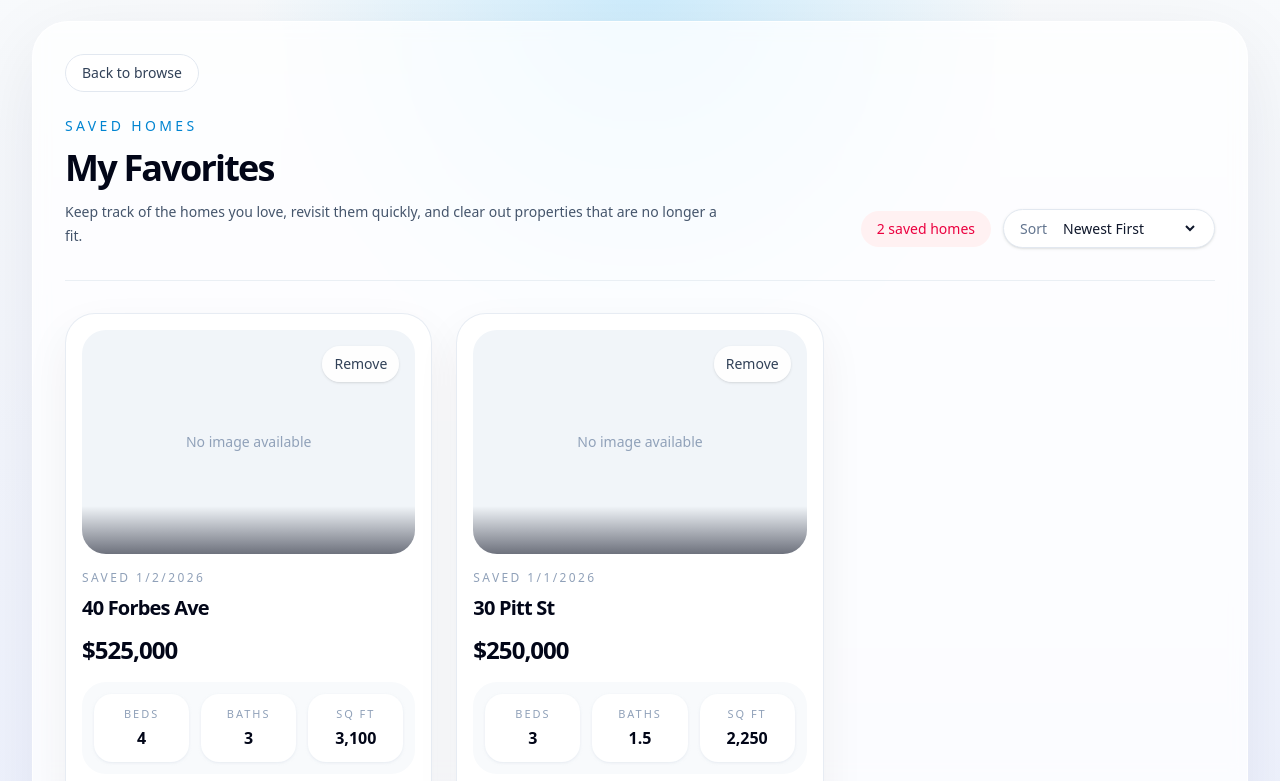
it: FavoritesPage › removes the listing after confirmation is clicked
Click the button with test id "remove-button-1".
click(752, 364)  # box [714, 346, 791, 382]
(page scrolled)
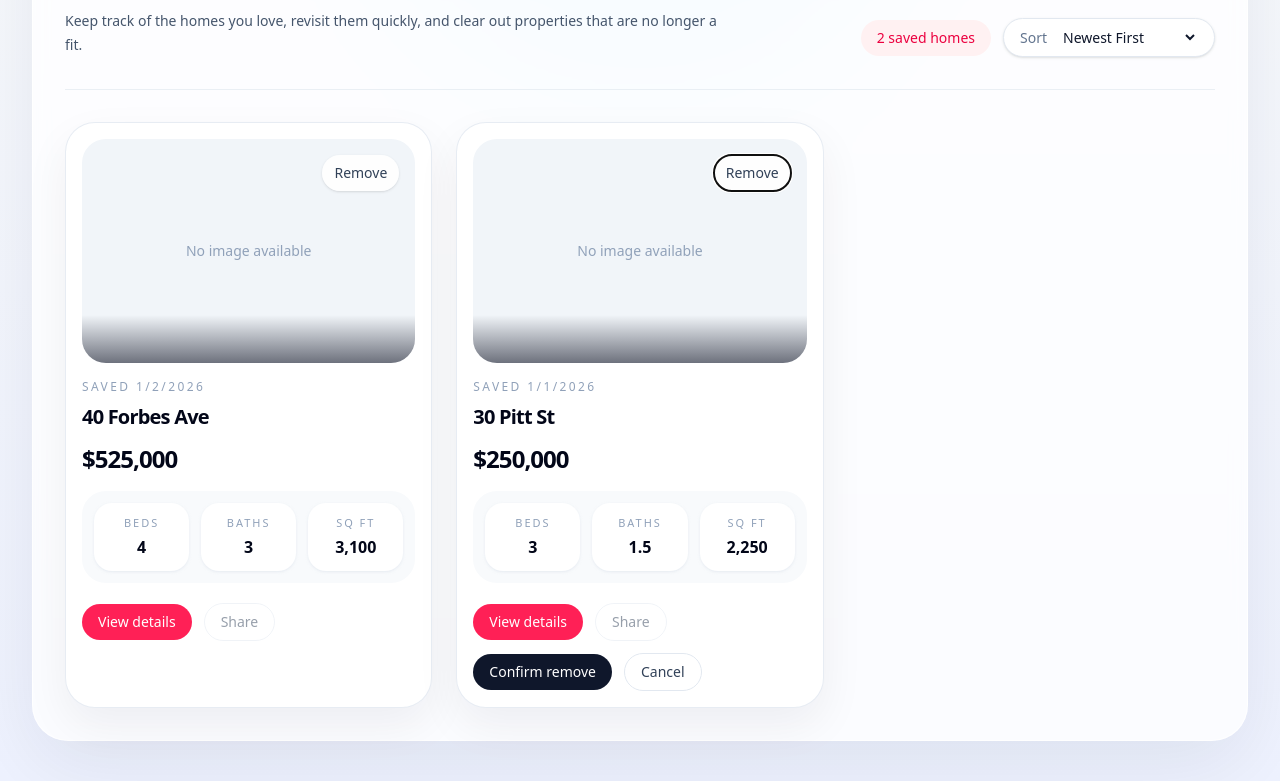
Click the button "Confirm remove".
click(543, 672)  # box [473, 654, 612, 690]
(page scrolled)
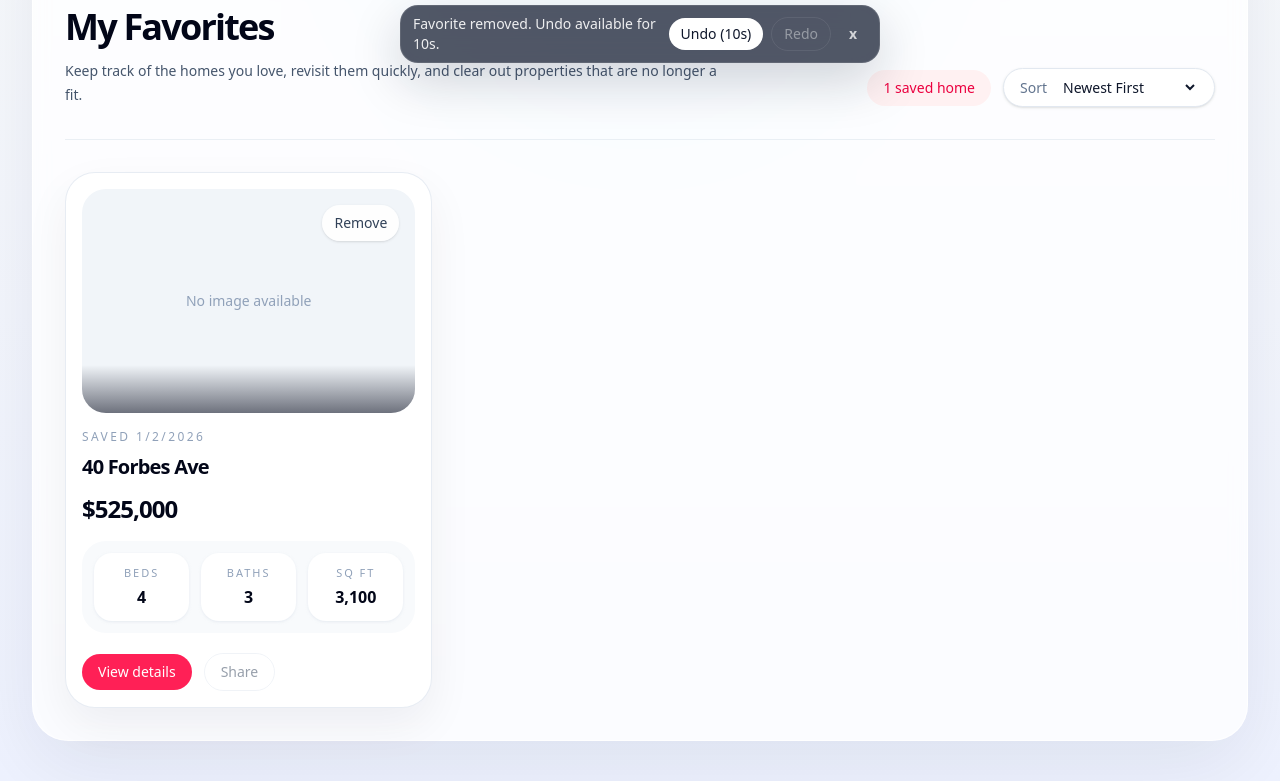
Expected: the heading "40 Forbes Ave" is shown, [82, 453, 209, 481]
Result: the heading "30 Pitt St" is gone
